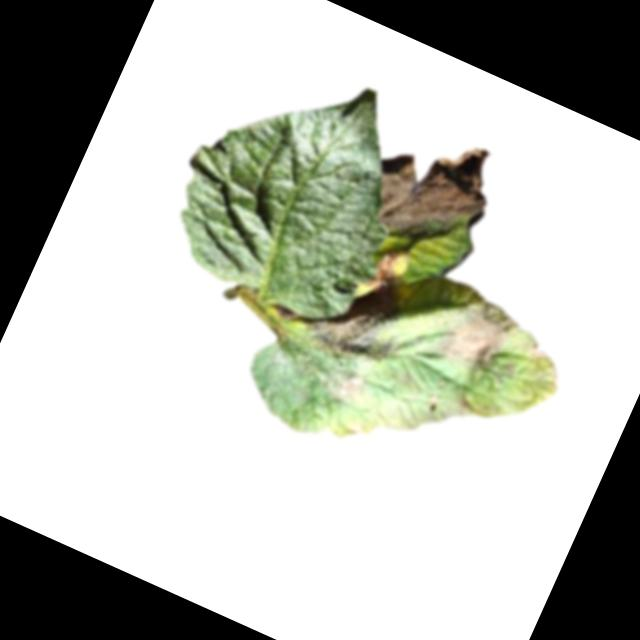Late_blight: (356, 112, 508, 267), (299, 266, 414, 378), (434, 287, 523, 377), (304, 353, 379, 416), (364, 238, 413, 295), (520, 334, 551, 367), (344, 415, 373, 441)
